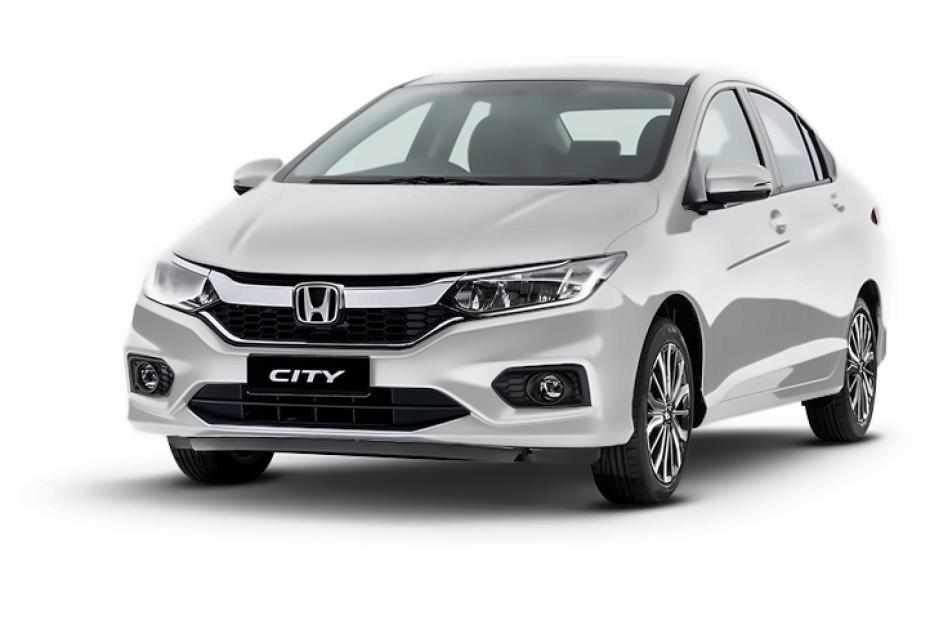Car hood: (157, 181, 661, 282)
Fender - -F-L-: (599, 142, 744, 420)
Fender - -R-L-: (813, 147, 888, 351)
Front bumper: (123, 285, 646, 450)
Headlight - -L-: (438, 251, 627, 321)
Headlight - -R-: (140, 248, 222, 312)
Passenger-s door - -F-L-: (671, 60, 798, 437)
Passenger-s door - -R-L-: (734, 59, 854, 422)
Side bumper - -L-: (695, 341, 851, 446)
Side mirror - -L-: (680, 160, 768, 216)
Side mirror - -R-: (234, 155, 286, 196)
